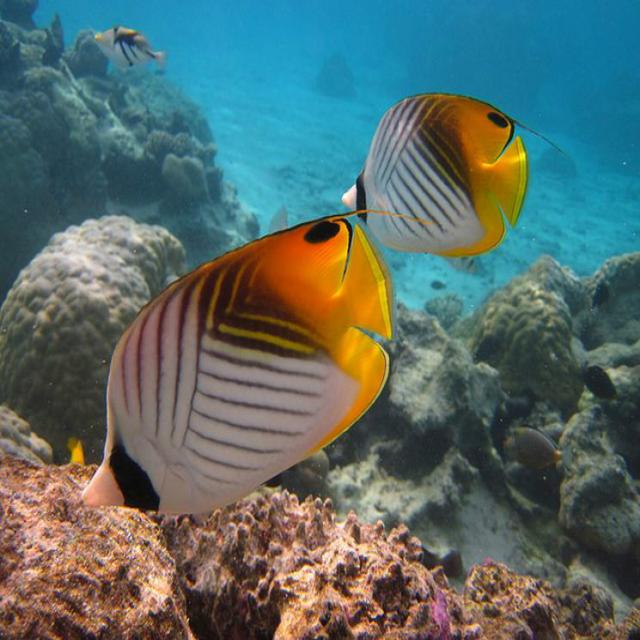ButterflyFish: (79, 216, 394, 516), (340, 91, 528, 254)
